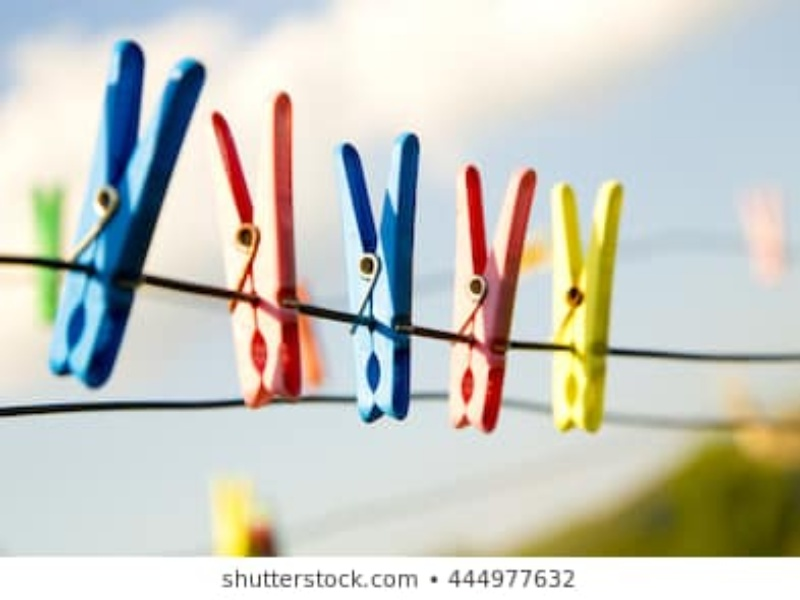plastic-peg: (47, 35, 209, 388), (199, 89, 305, 416), (330, 129, 424, 425), (450, 160, 538, 434), (547, 176, 623, 435)
